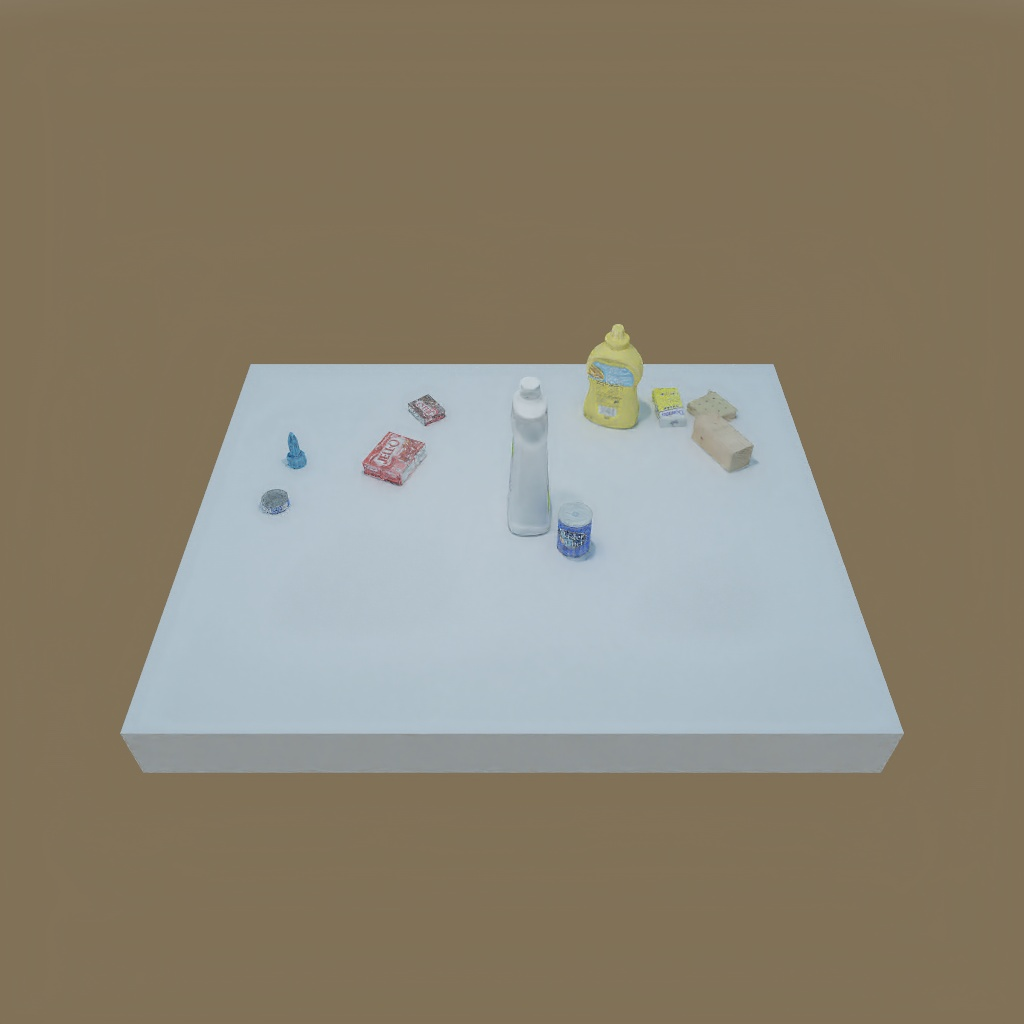gelatin_box: (362, 433, 433, 483)
master_chef_can: (553, 496, 600, 567)
mustard_bottle: (586, 326, 643, 434)
nine_hole_peg_test: (691, 390, 739, 424)
pudding_box: (403, 392, 449, 423)
wood_block: (689, 408, 754, 472)
